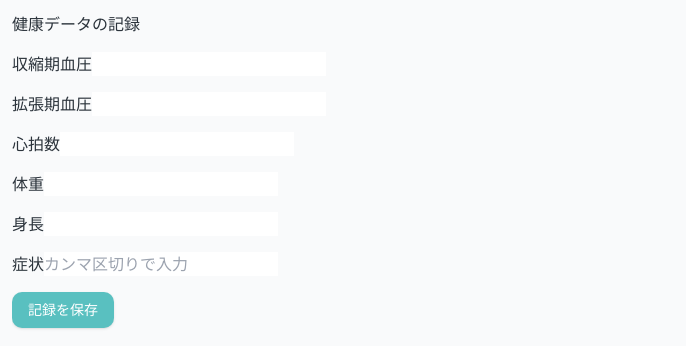
HealthForm Component › validates blood pressure ranges
Type "300" into the number field labelled "収縮期血圧" at (209, 64), box [92,52,326,76]
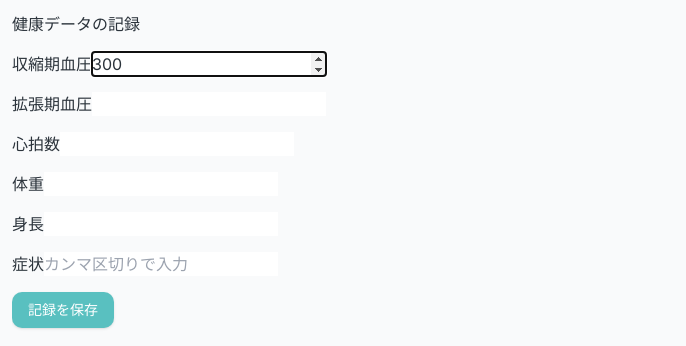
Type "200" into the number field labelled "拡張期血圧" at (209, 104), box [92,92,326,116]
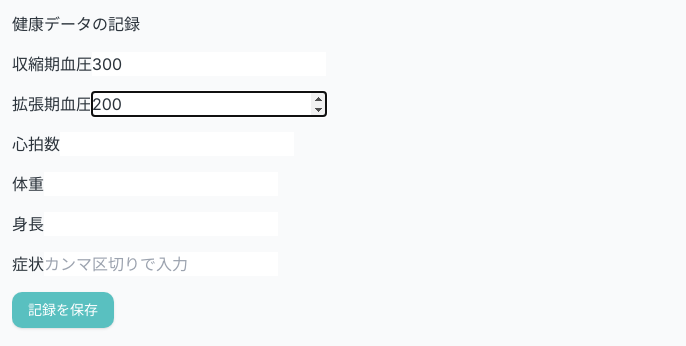
Click the button "記録を保存" at (63, 310), box [12,292,114,328]
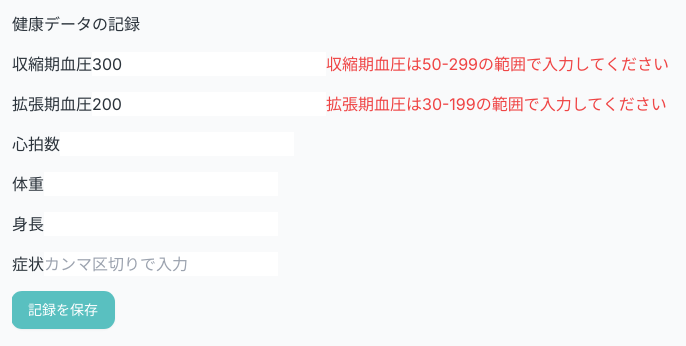
Expected: the text "収縮期血圧は50-299の範囲で入力してください" is shown, [326,54,669,74]
